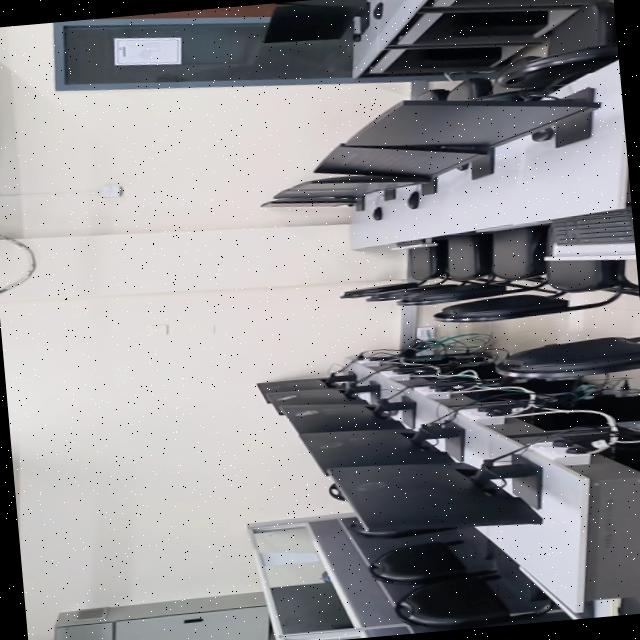Chair: (433, 260, 639, 322), (398, 224, 547, 305), (394, 570, 551, 628), (357, 234, 487, 302), (369, 527, 495, 583), (497, 336, 640, 378), (338, 244, 447, 299), (497, 43, 618, 88), (544, 0, 617, 55), (444, 78, 490, 100), (618, 596, 640, 615), (416, 88, 448, 100), (327, 483, 344, 501)
Cpu: (450, 10, 546, 36), (419, 46, 500, 67)
Keyboard: (548, 204, 634, 245), (393, 237, 431, 248), (573, 601, 593, 619)
Monitor: (327, 453, 541, 532), (345, 87, 599, 148), (299, 424, 461, 474), (313, 143, 492, 179), (283, 396, 414, 433), (263, 2, 368, 43), (267, 384, 378, 415), (256, 373, 355, 403), (287, 175, 430, 191), (260, 195, 362, 210), (272, 189, 364, 199), (282, 0, 366, 7)
Mouse: (529, 128, 552, 142), (405, 191, 418, 209), (371, 2, 382, 19), (369, 207, 380, 220), (351, 33, 360, 42)
